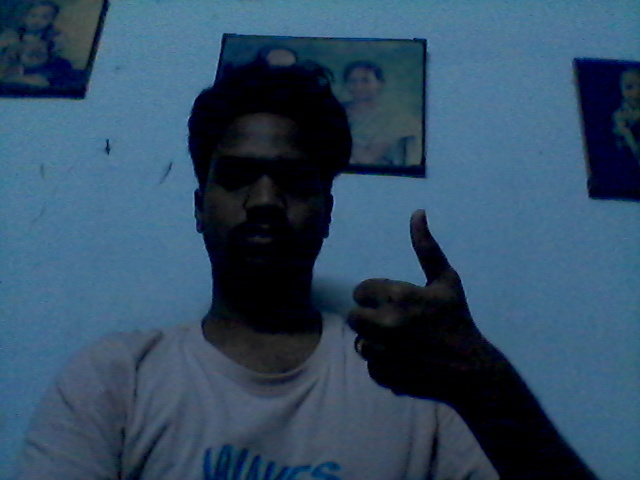Fine: (344, 203, 481, 407)
